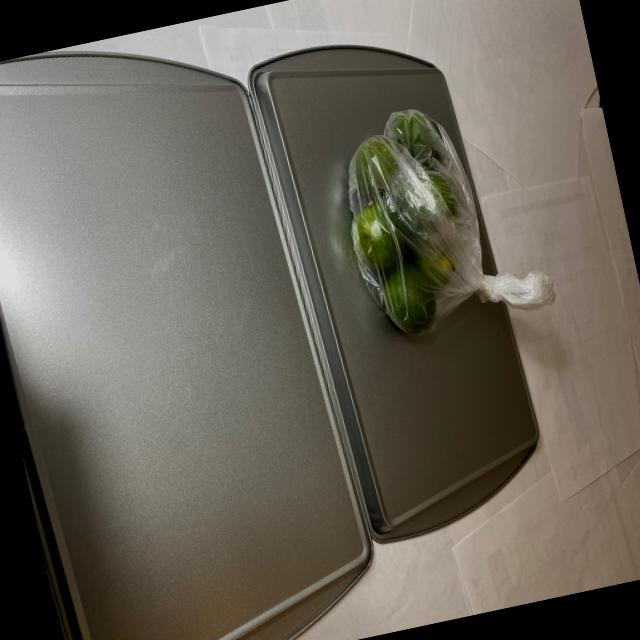lemon: (326, 102, 489, 348)
